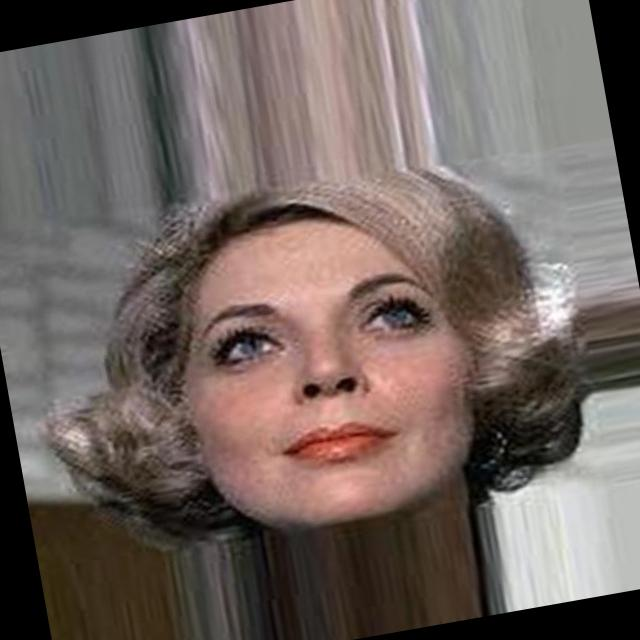bareface: (104, 159, 493, 543)
